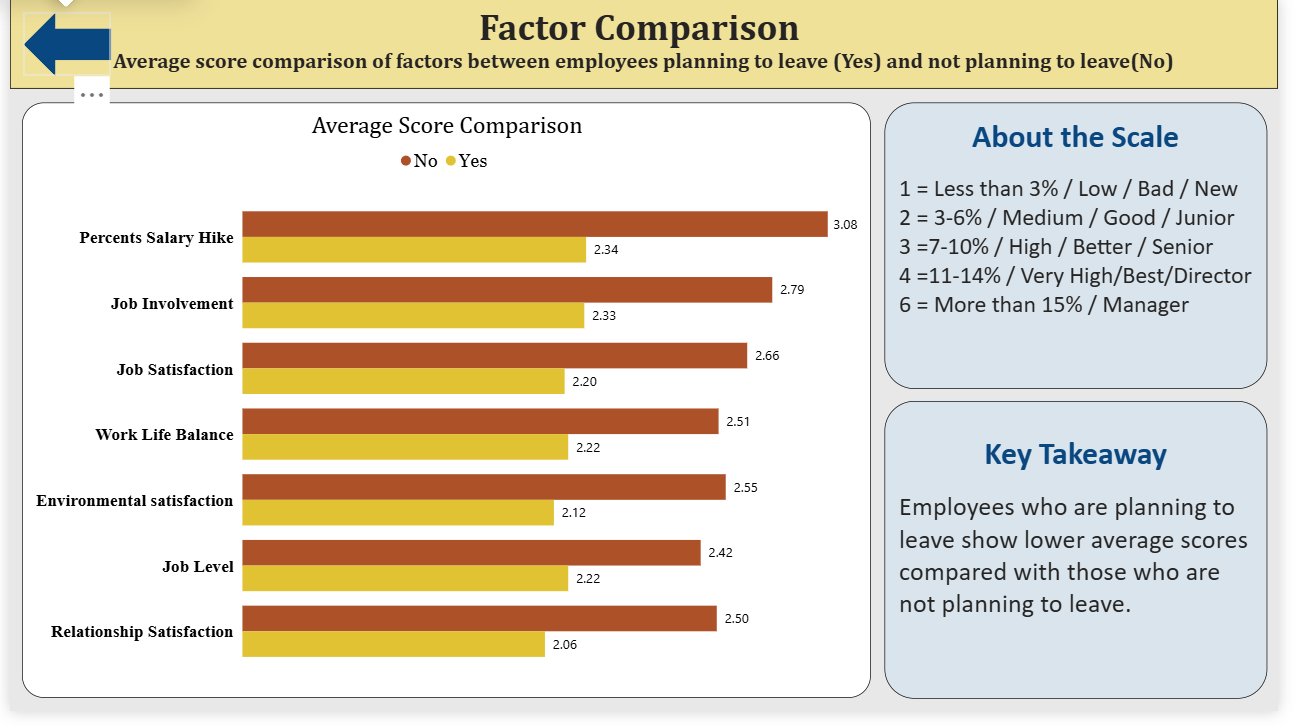

What the dashboard file says about the page in this screenshot:
{"tool":"powerbi","page":{"name":"Factor comparission","canvas":[1280,720],"ordinal":2},"visuals":[{"type":"clusteredBarChart","title":"Average Score Comparison","fields":{"Category":["Form_Responses (3).Attribute"],"Y":["Sum(Form_Responses (3).Value)"],"Series":["Form_Responses (3).Planning to leave"]},"box":[12.7,105,857.3,601.3],"z":0},{"type":"textbox","box":[0,0,1280.4,90.7],"z":1000},{"type":"textbox","box":[882.8,405.6,386.5,300.6],"z":2000},{"type":"textbox","box":[882.8,105,386.5,289.5],"z":3000},{"type":"actionButton","box":[12.9,12.9,88.8,64.5],"z":3001}]}

Visuals, with their boxes in screenshot pixels (x1, y1, x2, y2), scaled from the page's 1280x720 canvas onto the 1303x727 screenshot:
"Average Score Comparison" clusteredBarChart: (13, 106, 886, 713)
textbox: (0, 0, 1302, 92)
textbox: (899, 410, 1292, 713)
textbox: (899, 106, 1292, 398)
actionButton: (13, 13, 104, 78)
